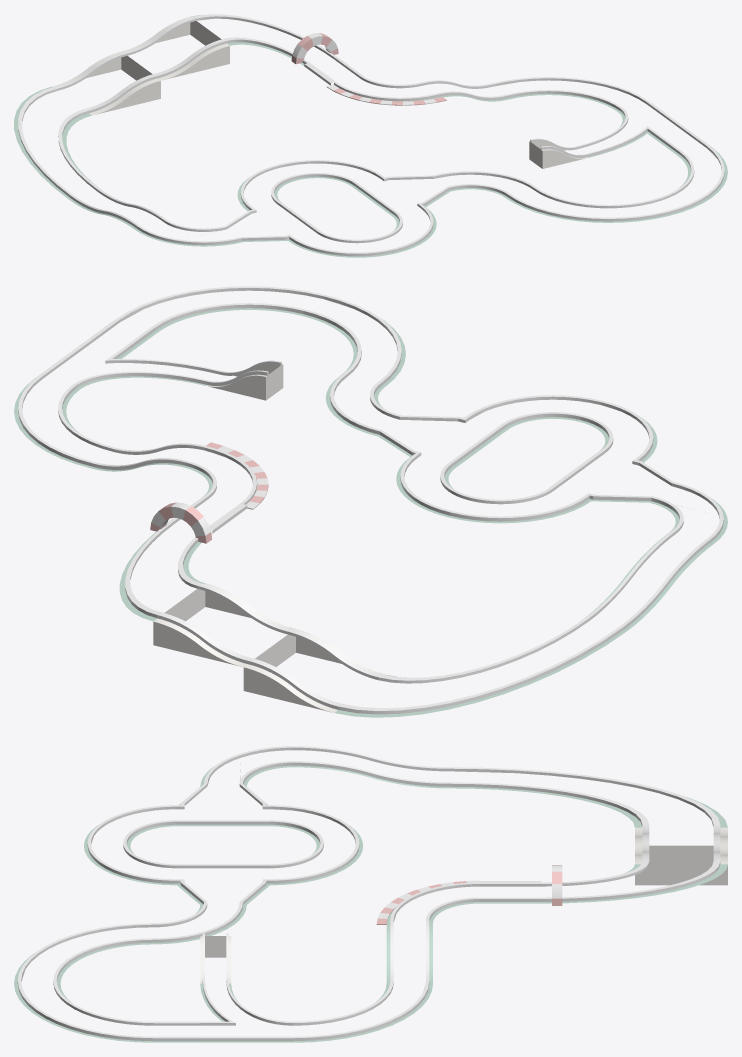
The model's file is SideSplit.fbx.
The picture shows the model from 3 angles, top to bottom: view 1: azimuth 30°, elevation 25°; view 2: azimuth 150°, elevation 25°; view 3: azimuth 270°, elevation 25°; orthographic projection. The views are drawn at different scales.
Visible parts, largest first — view 1: roadRampLongCurvedWall__1_, roadRampLongCurvedWall__3_, roadCornerLarger__1_, roadCornerLarger__5_, roadCornerLarger, roadCornerLarge__13_, roadCornerLarger__4_, roadRampLongCurvedWall__4_, roadSplitLarger, roadCornerLarge__11_, roadCornerLarge__12_, roadCornerLarge__7_ (+10 smaller); view 2: roadRampLongCurvedWall__1_, roadRampLongCurvedWall__3_, roadCornerLarger__1_, roadCornerLarger__4_, roadSplitLarger, roadRampLongCurved__2_, roadRampLongCurvedWall__4_, roadCornerLarger, roadCornerLarge__13_, roadCornerLarger__5_, roadCornerLarge__9_, roadCornerLarge__10_ (+10 smaller); view 3: roadCornerLarger__1_, roadRampLongCurvedWall__3_, roadCornerLarge__13_, roadRampLongCurvedWall__1_, roadRampLongCurved__2_, roadCornerLarger, roadCornerLarger__4_, roadCornerLarger__5_, roadSplitLarger, roadCornerLarge__8_, roadCornerLarge__10_, roadCornerLarge__7_ (+11 smaller).
Part boxes in pixels (x1=…): roadRampLongCurvedWall__1_: x1=52, y1=51, x2=160, y2=115; roadRampLongCurvedWall__3_: x1=121, y1=16, x2=229, y2=80; roadCornerLarger__1_: x1=14, y1=86, x2=101, y2=198; roadCornerLarger__5_: x1=505, y1=187, x2=667, y2=222; roadCornerLarger: x1=491, y1=77, x2=648, y2=111; roadCornerLarge__13_: x1=191, y1=14, x2=337, y2=65; roadCornerLarger__4_: x1=650, y1=145, x2=727, y2=215; roadRampLongCurvedWall__4_: x1=529, y1=138, x2=587, y2=168; roadSplitLarger: x1=576, y1=101, x2=691, y2=157; roadCornerLarge__11_: x1=288, y1=230, x2=396, y2=257; roadCornerLarge__12_: x1=135, y1=219, x2=242, y2=246; roadCornerLarge__7_: x1=432, y1=171, x2=536, y2=197; roadRampLongCurvedWall__1_: x1=243, y1=629, x2=386, y2=712; roadRampLongCurvedWall__3_: x1=153, y1=583, x2=295, y2=667; roadCornerLarger__1_: x1=335, y1=618, x2=626, y2=717; roadCornerLarger__4_: x1=117, y1=286, x2=324, y2=331; roadSplitLarger: x1=35, y1=337, x2=220, y2=389; roadRampLongCurved__2_: x1=582, y1=530, x2=713, y2=631; roadRampLongCurvedWall__4_: x1=206, y1=360, x2=283, y2=400; roadCornerLarger: x1=14, y1=376, x2=115, y2=468; roadCornerLarge__13_: x1=119, y1=520, x2=204, y2=621; roadCornerLarger__5_: x1=302, y1=295, x2=405, y2=386; roadCornerLarge__9_: x1=449, y1=488, x2=590, y2=523; roadCornerLarge__10_: x1=466, y1=395, x2=602, y2=429; roadCornerLarger__1_: x1=448, y1=767, x2=727, y2=827; roadRampLongCurvedWall__3_: x1=635, y1=843, x2=727, y2=885; roadCornerLarge__13_: x1=541, y1=861, x2=727, y2=903; roadRampLongCurvedWall__1_: x1=635, y1=824, x2=727, y2=863; roadRampLongCurved__2_: x1=293, y1=746, x2=448, y2=788; roadCornerLarger: x1=293, y1=980, x2=432, y2=1042; roadCornerLarger__4_: x1=14, y1=980, x2=153, y2=1042; roadCornerLarger__5_: x1=14, y1=923, x2=153, y2=983; roadSplitLarger: x1=200, y1=980, x2=293, y2=1042; roadCornerLarge__8_: x1=270, y1=843, x2=362, y2=885; roadCornerLarge__10_: x1=84, y1=843, x2=176, y2=885; roadCornerLarge__7_: x1=153, y1=902, x2=246, y2=944.
Bounding box in the file's own units: 45000 × 4867 × 46000.
